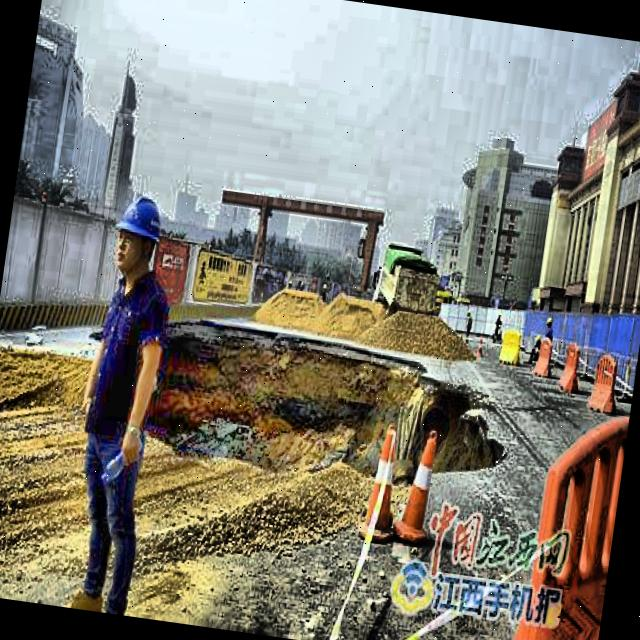helmet: (105, 182, 173, 290)
